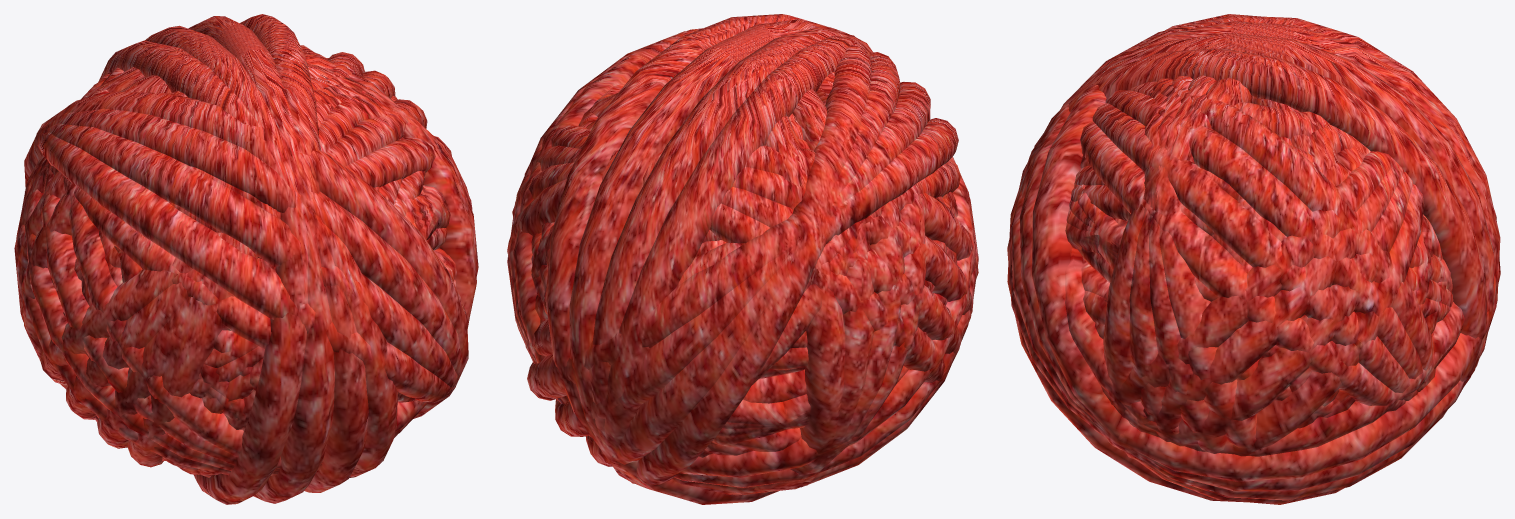
Rendered from YARN.fbx.
The picture shows the model from 3 angles, left to right: view 1: azimuth 30°, elevation 25°; view 2: azimuth 150°, elevation 25°; view 3: azimuth 270°, elevation 25°; orthographic projection.
Visible parts, largest first — view 1: Torus001; view 2: Torus001; view 3: Torus001.
Boxes of the visible parts, x1,y1,x2,y2 form: Torus001: (14,14,478,504); Torus001: (507,14,978,504); Torus001: (1007,14,1500,504).
Size of the model in its own units: 2.34 by 2.48 by 2.49.
1 material, 1 textured.
